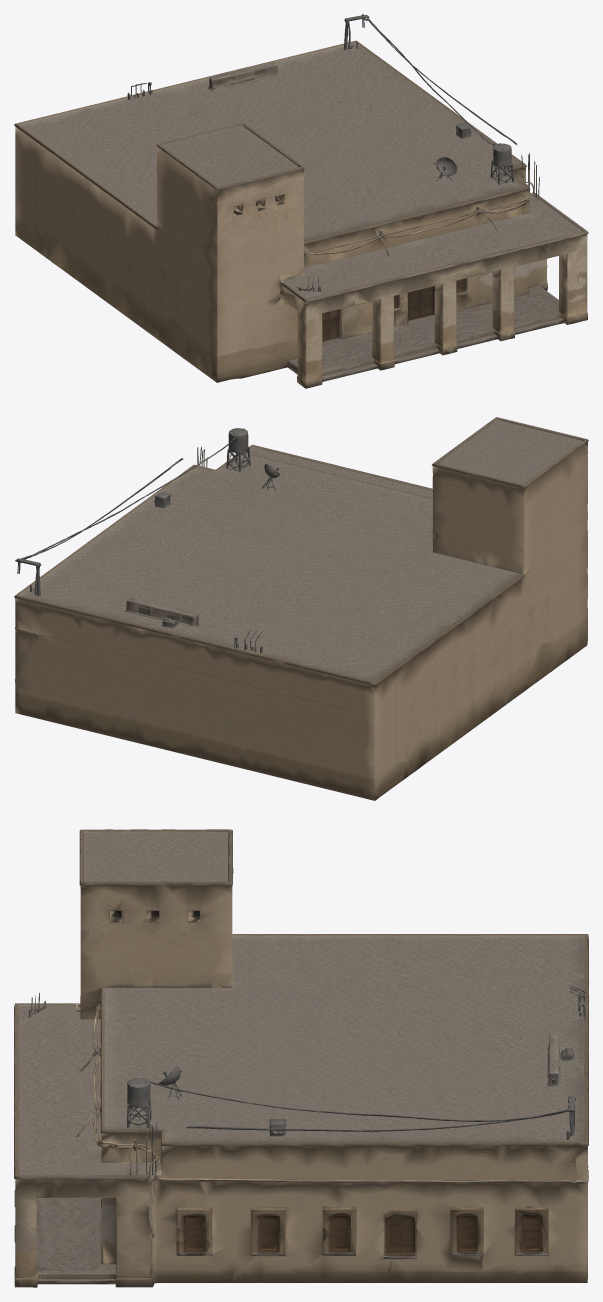
File: hall.glb
The picture shows the model from 3 angles, top to bottom: view 1: azimuth 30°, elevation 25°; view 2: azimuth 150°, elevation 25°; view 3: azimuth 270°, elevation 25°; orthographic projection. The views are drawn at different scales.
Visible parts, largest first — view 1: wall, roof, trim, metal, glass; view 2: wall, roof, metal, trim; view 3: roof, wall, trim, metal, glass.
Part boxes in pixels (left/top/right/bottom): wall: left=14, top=14, right=588, bottom=388; roof: left=15, top=40, right=528, bottom=242; trim: left=127, top=33, right=586, bottom=381; metal: left=157, top=14, right=511, bottom=215; glass: left=322, top=74, right=508, bottom=369; wall: left=14, top=418, right=588, bottom=800; roof: left=15, top=452, right=523, bottom=683; metal: left=16, top=417, right=587, bottom=564; trim: left=30, top=444, right=432, bottom=648; roof: left=101, top=934, right=587, bottom=1143; wall: left=14, top=829, right=588, bottom=1287; trim: left=14, top=986, right=588, bottom=1281; metal: left=80, top=829, right=575, bottom=1123; glass: left=14, top=1113, right=560, bottom=1264.
Bounding box in the file's own units: 8.42 × 4.56 × 9.62.
1 material, 1 textured.
